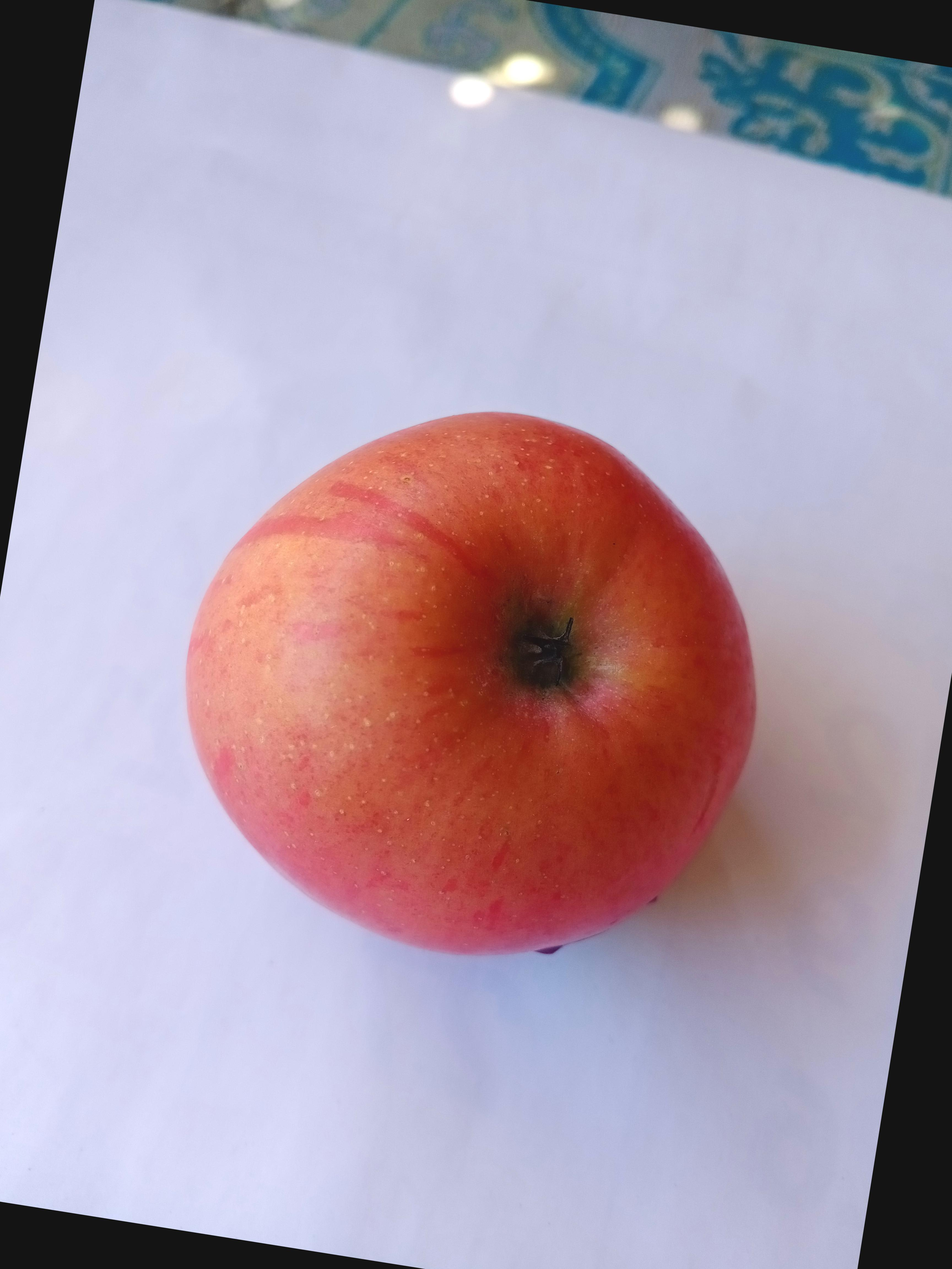Apple Ripe: (247, 249, 947, 935)
